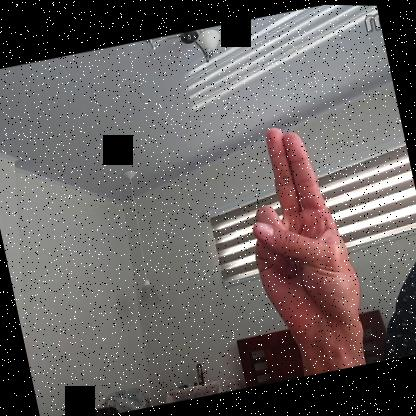U: (228, 113, 373, 363)
